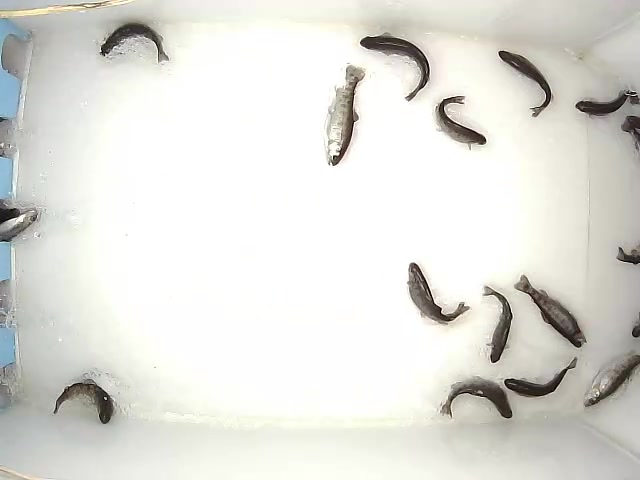fish: (512, 273, 588, 350), (359, 32, 431, 104), (324, 62, 366, 167), (406, 261, 470, 326), (497, 49, 553, 118), (436, 376, 514, 420), (582, 350, 640, 409), (504, 356, 578, 399), (99, 22, 171, 65), (432, 96, 487, 151), (52, 381, 116, 426), (480, 284, 514, 363), (574, 87, 639, 120)
